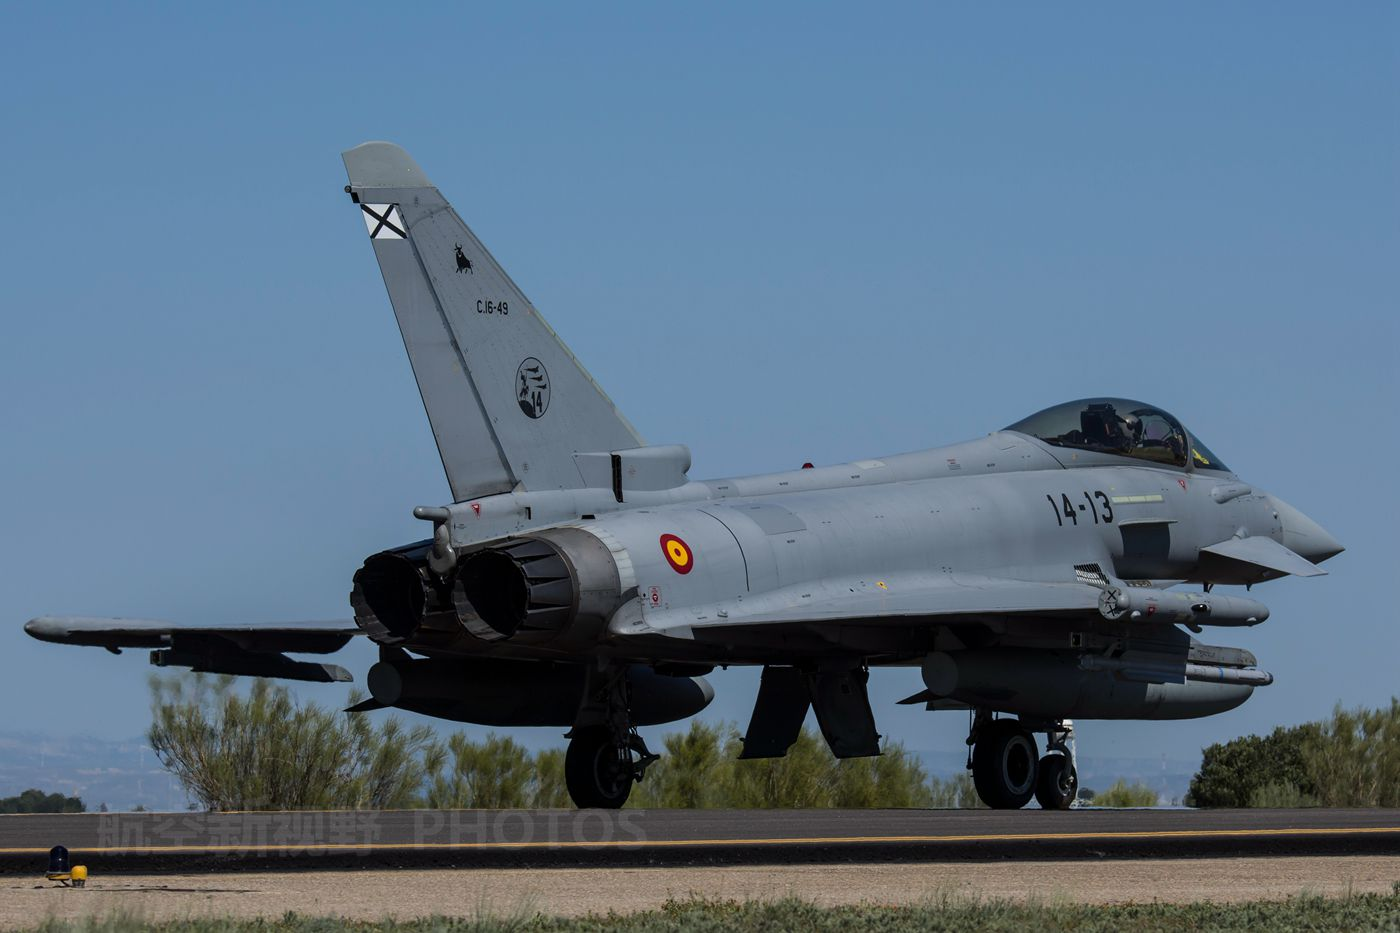otherboat: (17, 141, 1350, 805)
